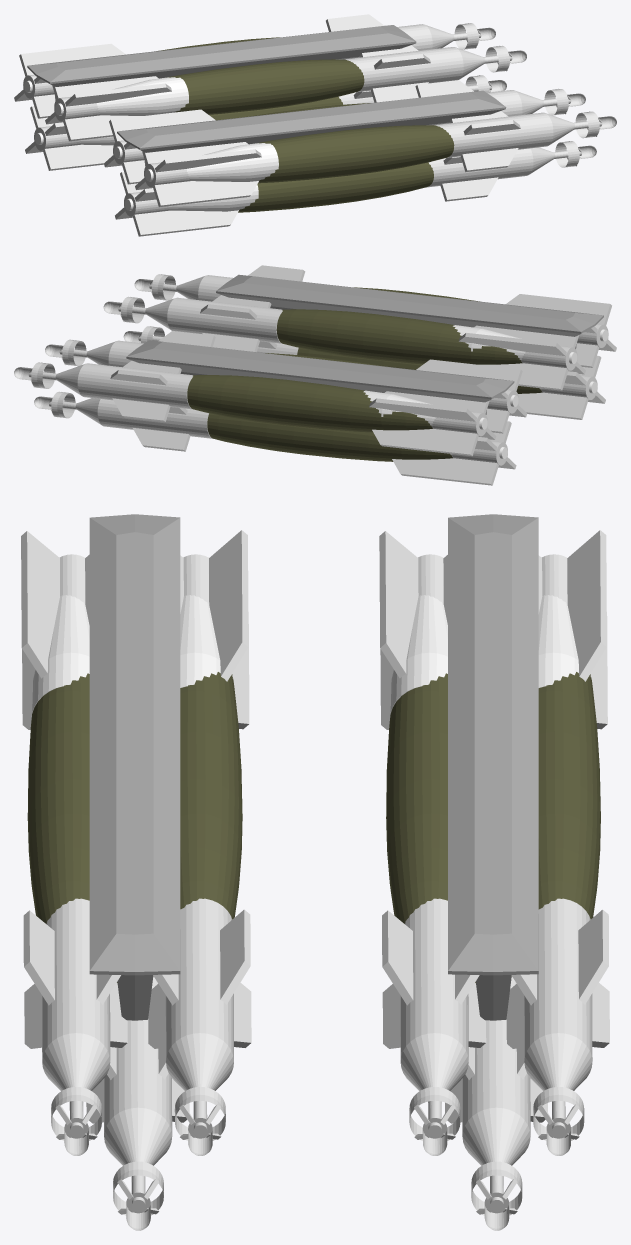
The model's file is a10cgbu12561.glb.
3 renders of one model, top to bottom at view 1: azimuth 30°, elevation 25°; view 2: azimuth 150°, elevation 25°; view 3: azimuth 270°, elevation 25°, orthographic. The views are drawn at different scales.
Visible parts, largest first — view 1: 円柱.011, 円柱.008, 円柱.012, 立方体.004, 立方体.003, 円柱.013, 円柱.010, 円柱.009; view 2: 円柱.010, 円柱.013, 円柱.009, 立方体.004, 立方体.003, 円柱.011, 円柱.008, 円柱.012; view 3: 立方体.004, 立方体.003, 円柱.010, 円柱.013, 円柱.011, 円柱.008, 円柱.009, 円柱.012.
Boxes of the visible parts, bbox=[...] form: 円柱.011: bbox=[135, 111, 616, 207]; 円柱.008: bbox=[45, 45, 526, 141]; 円柱.012: bbox=[115, 141, 596, 236]; 立方体.004: bbox=[117, 90, 506, 166]; 立方体.003: bbox=[27, 25, 416, 100]; 円柱.013: bbox=[104, 80, 585, 184]; 円柱.010: bbox=[14, 14, 495, 118]; 円柱.009: bbox=[25, 75, 506, 170]; 円柱.010: bbox=[14, 360, 496, 456]; 円柱.013: bbox=[103, 295, 585, 390]; 円柱.009: bbox=[34, 391, 516, 485]; 立方体.004: bbox=[216, 274, 603, 348]; 立方体.003: bbox=[126, 340, 514, 414]; 円柱.011: bbox=[134, 265, 616, 367]; 円柱.008: bbox=[45, 331, 527, 433]; 円柱.012: bbox=[123, 326, 605, 419]; 立方体.004: bbox=[89, 514, 180, 1020]; 立方体.003: bbox=[448, 514, 538, 1020]; 円柱.010: bbox=[506, 530, 609, 1155]; 円柱.013: bbox=[148, 530, 251, 1155]; 円柱.011: bbox=[21, 531, 127, 1155]; 円柱.008: bbox=[379, 531, 486, 1155]; 円柱.009: bbox=[445, 976, 547, 1230]; 円柱.012: bbox=[86, 976, 189, 1230].
Bounding box in the file's own units: 3.71 × 1.02 × 1.99.
4 materials, 1 textured.
